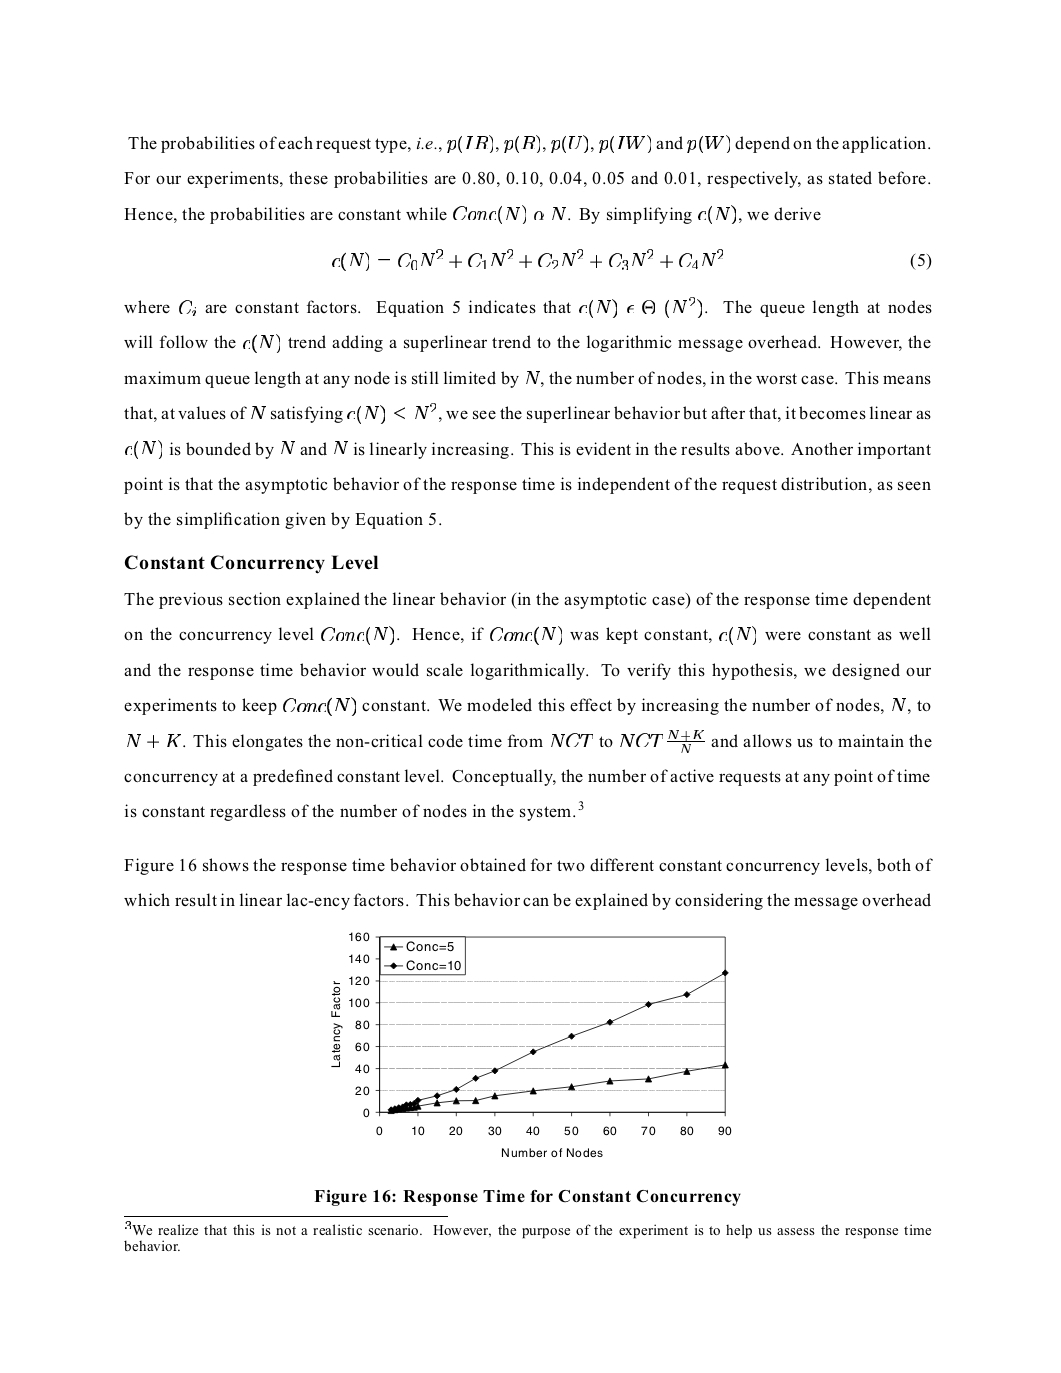figure: (331, 932, 731, 1157)
formula: (332, 249, 931, 271)
